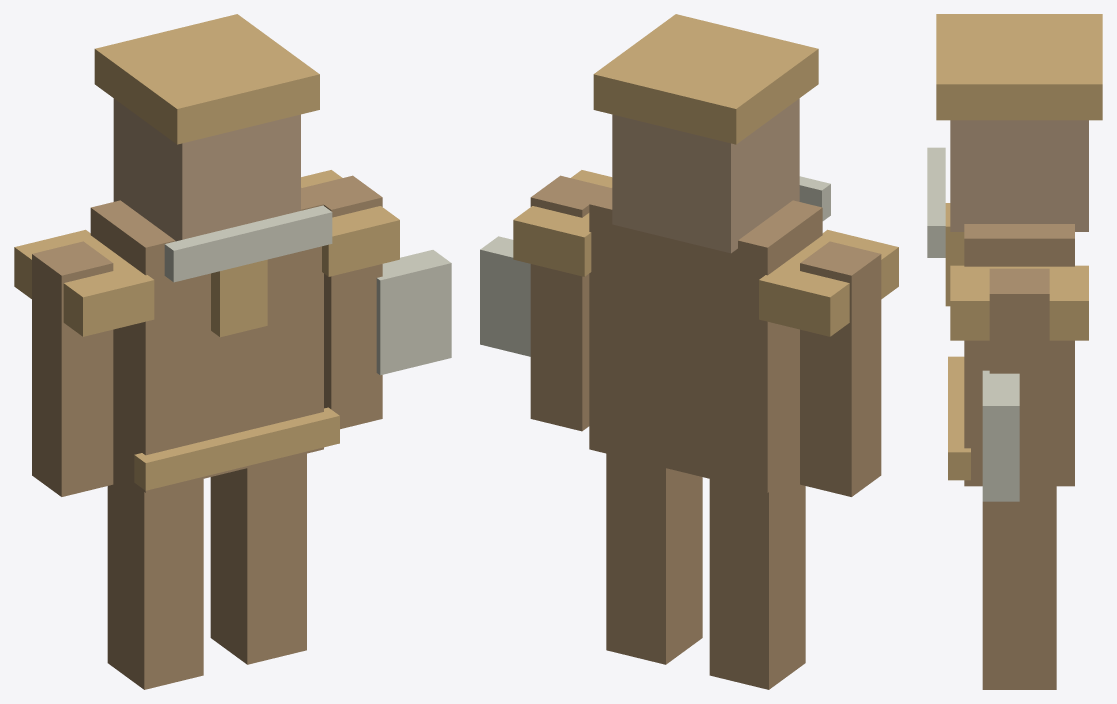
File: 10_bryn_cragwarden_sentinel_from_drill.glb
3 views of the same model, side by side, from view 1: azimuth 30°, elevation 25°; view 2: azimuth 150°, elevation 25°; view 3: azimuth 270°, elevation 25° (orthographic).
Parts seen in each view (by area): view 1: Bryn Cragwarden, Sentinel from Drill; view 2: Bryn Cragwarden, Sentinel from Drill; view 3: Bryn Cragwarden, Sentinel from Drill.
Boxes of the visible parts, <box> form: Bryn Cragwarden, Sentinel from Drill: <box>14,14,451,689</box>; Bryn Cragwarden, Sentinel from Drill: <box>480,14,898,689</box>; Bryn Cragwarden, Sentinel from Drill: <box>927,14,1102,689</box>.
Size of the model in its own units: 1.03 by 1.51 by 0.3997.
